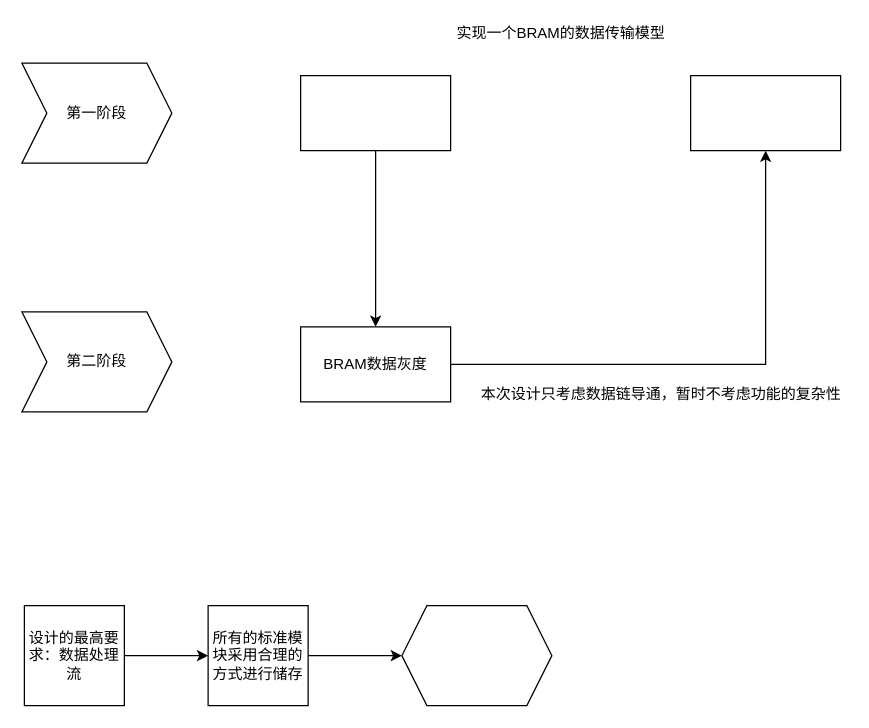
Image size: 869x728. Some labels were removed from this diagram. The centre of each missing label's shape, as x and y in pixels:
"BRAM数据发送" goes at point (765, 112).
"BRAM数据读取" goes at point (375, 112).
"数据流的核心在于如何增强整个设计的速度和面积效率" goes at point (476, 655).
